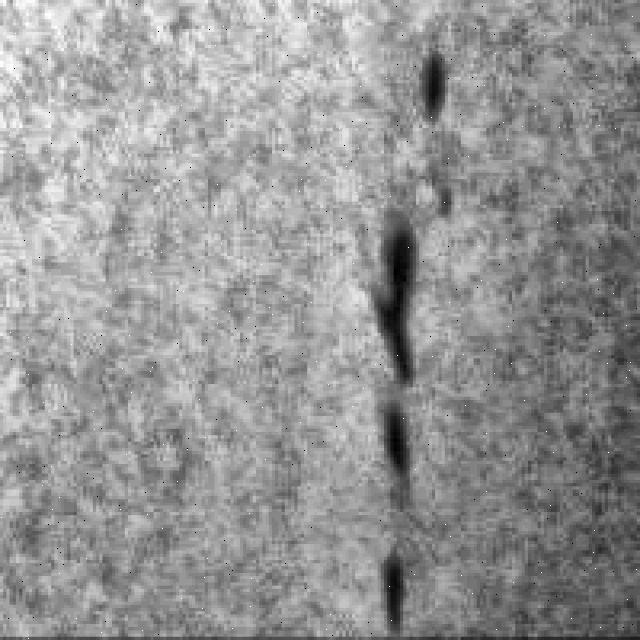Patches: (358, 218, 426, 390), (368, 387, 413, 480), (406, 39, 452, 128), (371, 544, 413, 630)
